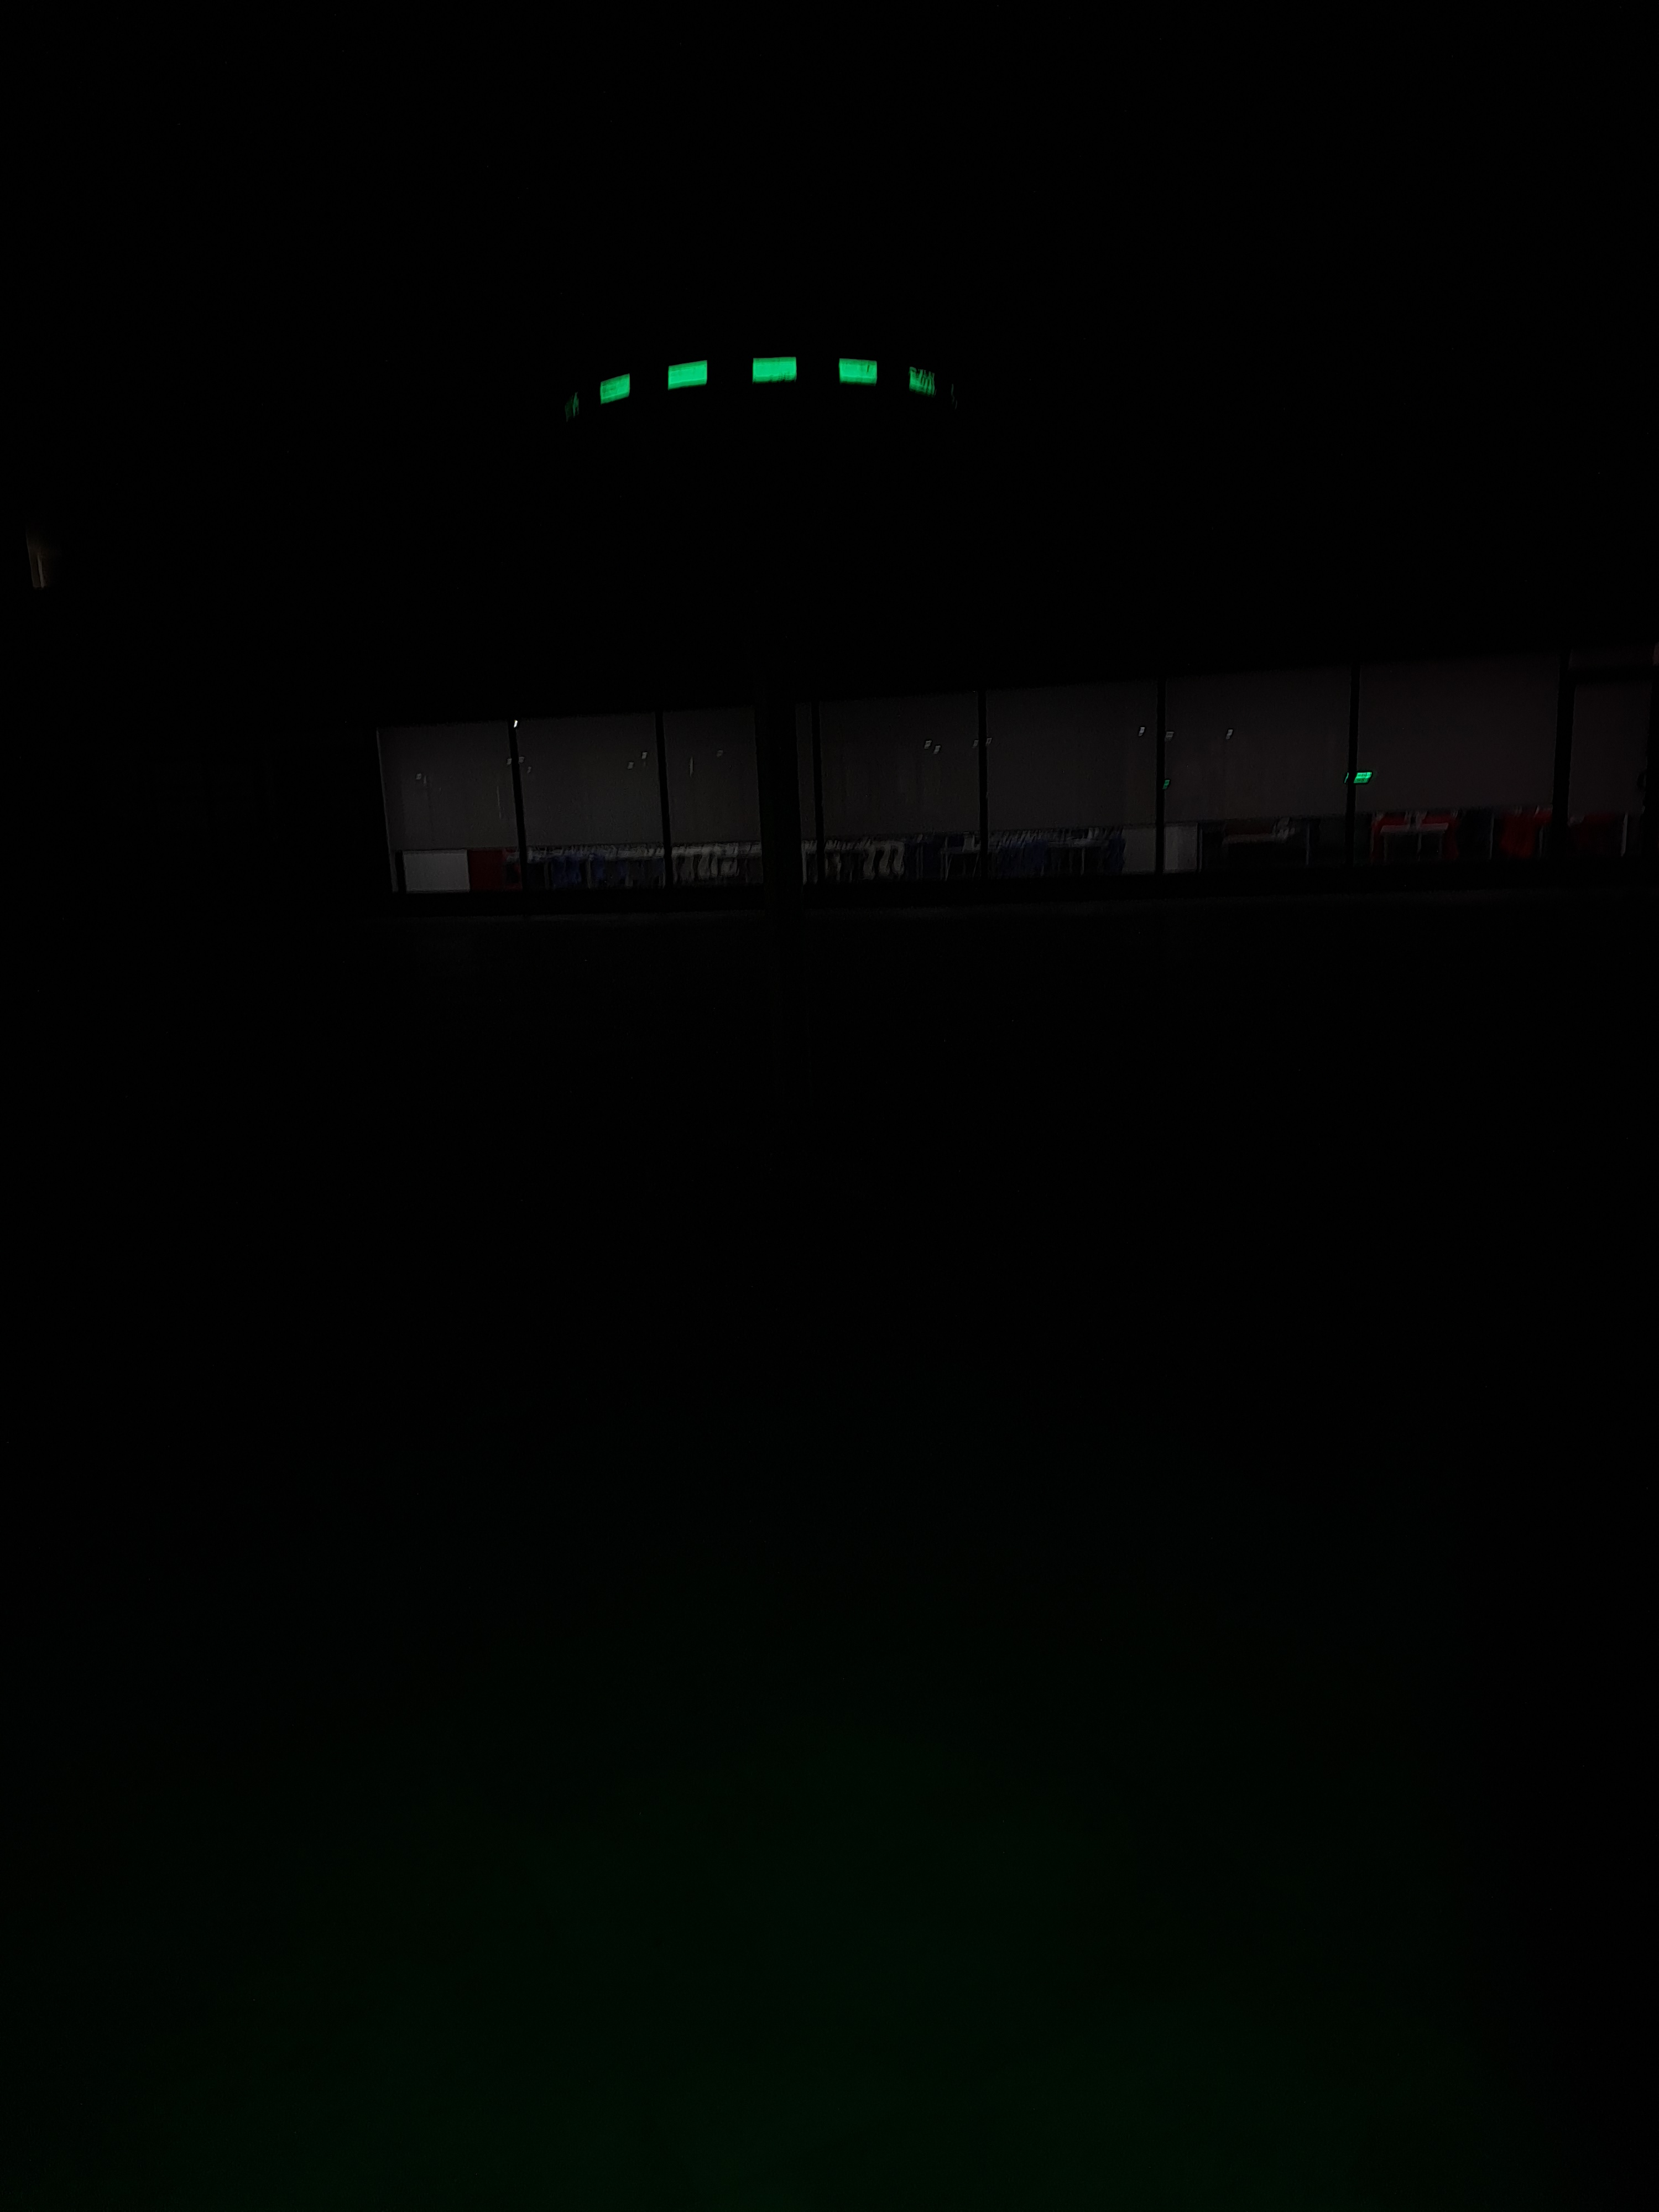hoop: (589, 355, 939, 406)
